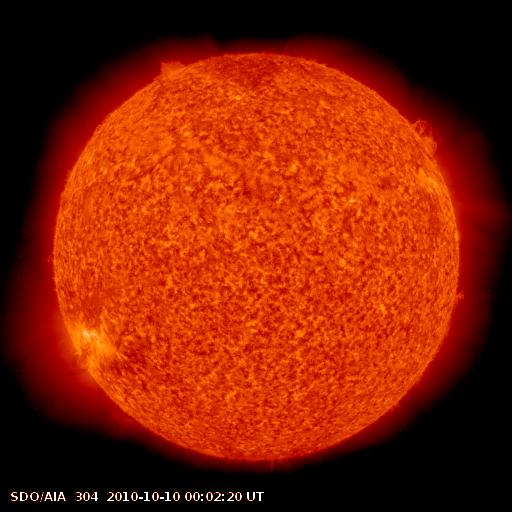prominence: (400, 104, 452, 162), (137, 43, 196, 89)
